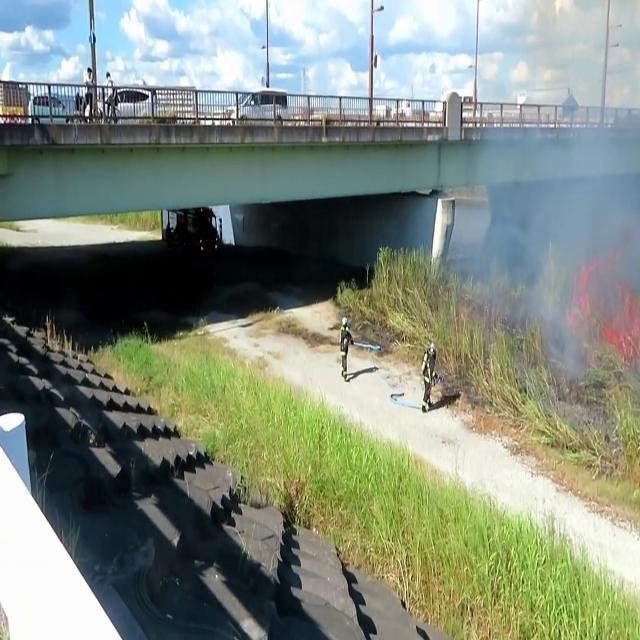Smoke: (485, 15, 640, 385)
